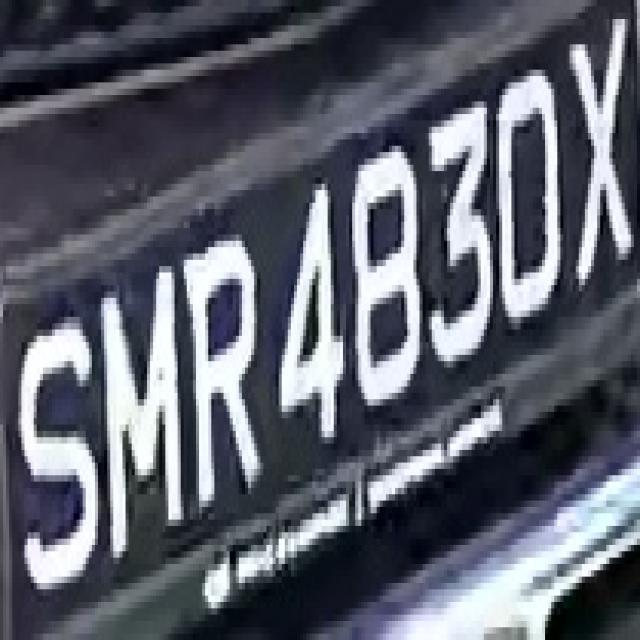0: (490, 63, 570, 336)
3: (420, 88, 499, 386)
4: (276, 184, 349, 469)
8: (349, 146, 432, 431)
M: (92, 234, 190, 552)
R: (175, 228, 272, 520)
S: (15, 285, 107, 583)
X: (566, 6, 640, 285)
